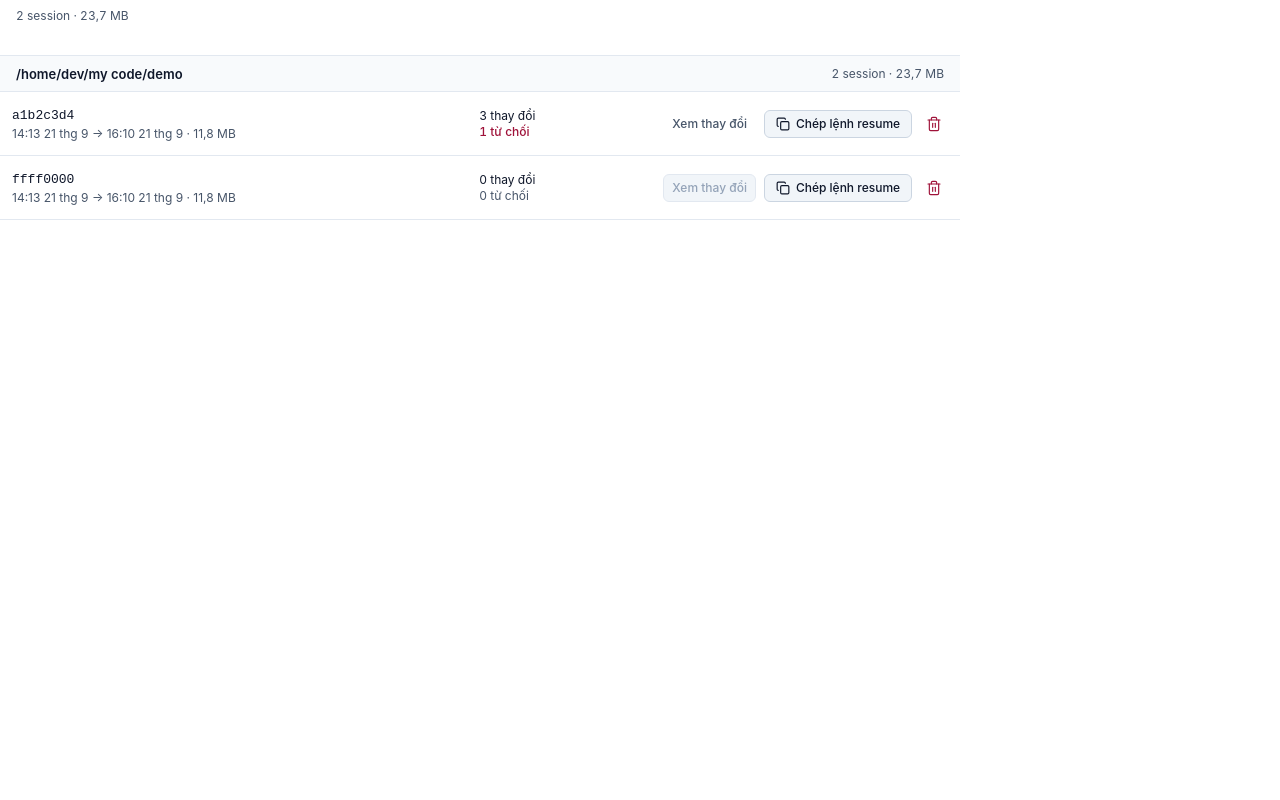
Test: <SessionsPage /> › UC-004 / AC-5: cancel keeps the session, confirm trashes it
Expected: the text "a1b2c3d4" is shown, 12,108 -> 74,122
What coordinates should you click on to do the following:
click the button named "Chuyển vào Thùng rác" in the row of "a1b2c3d4"
I would click on:
 (934, 124)
Its box is 920,110 -> 948,138.
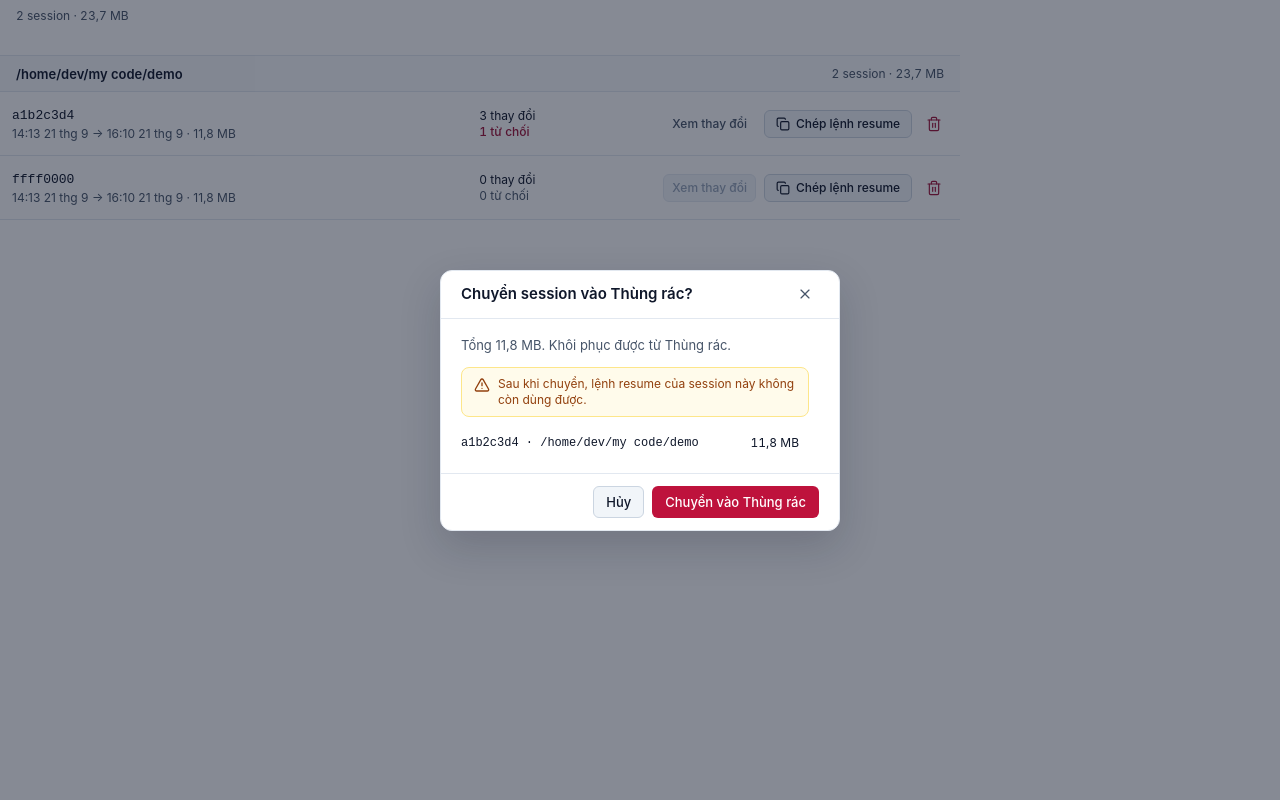
Expected: the text "Sau khi chuyển, lệnh resume của session này không còn dùng được." is shown, 498,376 -> 796,408
Expected: the text "a1b2c3d4 · /home/dev/my code/demo" is shown, 461,434 -> 699,450
What coordinates should you click on to do the following:
click the button "Hủy"
I would click on:
 (619, 502)
Its box is 593,486 -> 644,518.
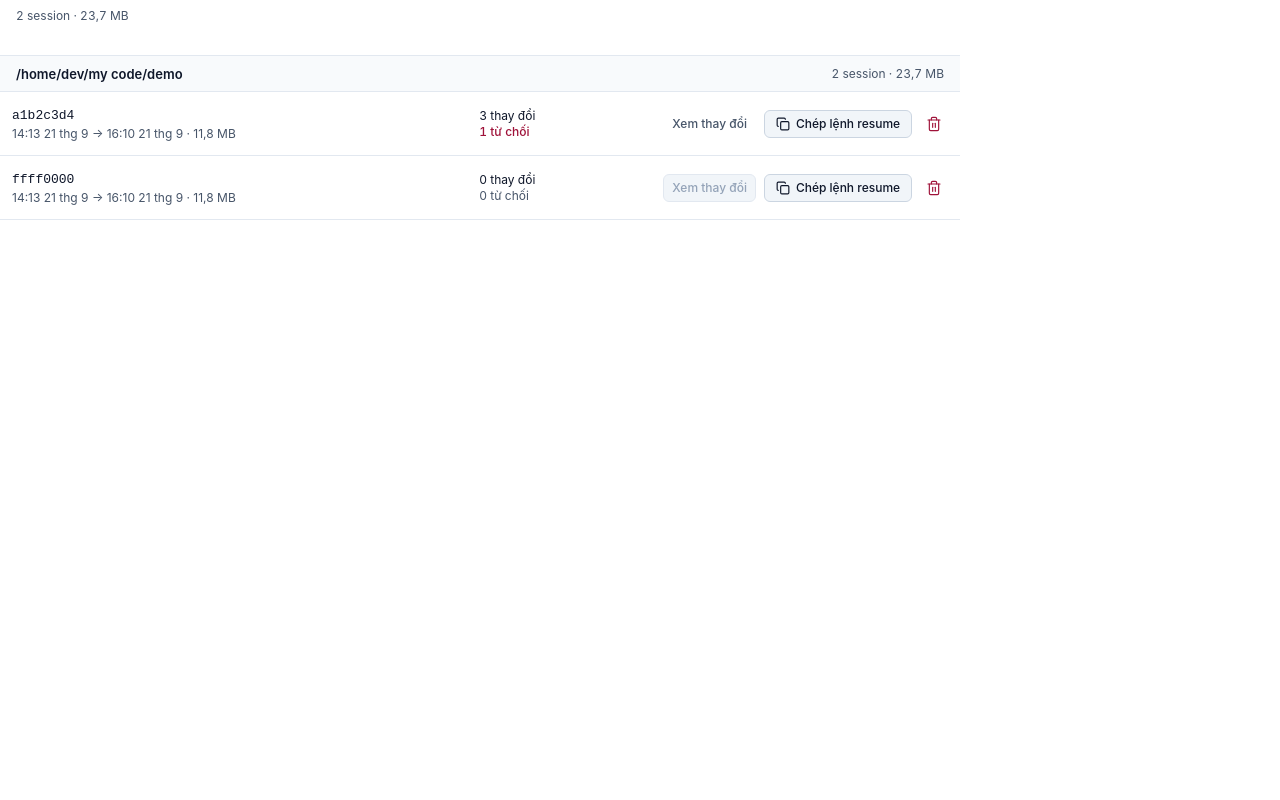
Expected: the dialog is gone
What coordinates should you click on to do the following:
click the button named "Chuyển vào Thùng rác" in the row of "a1b2c3d4"
I would click on:
 (934, 124)
Its box is 920,110 -> 948,138.
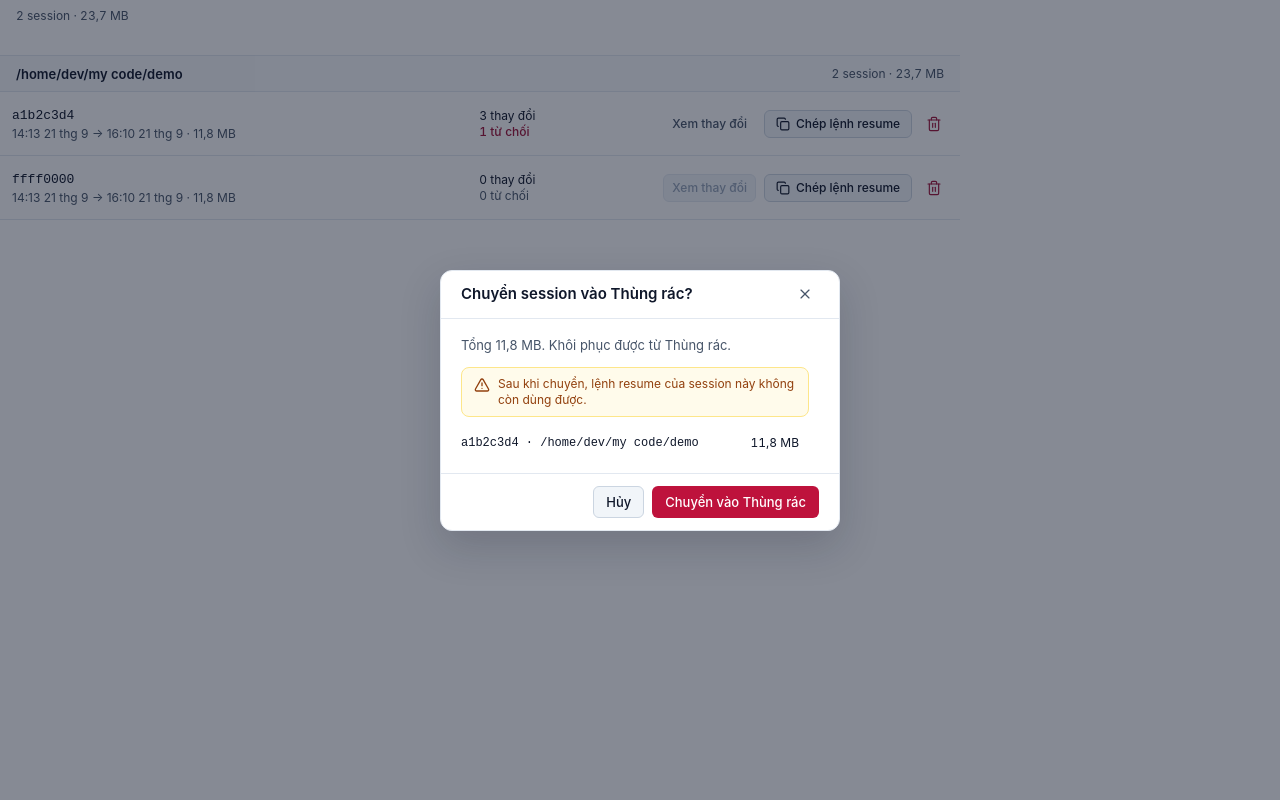
What coordinates should you click on to do the following:
click the button "Chuyển vào Thùng rác"
I would click on:
 (736, 502)
Its box is 652,486 -> 819,518.
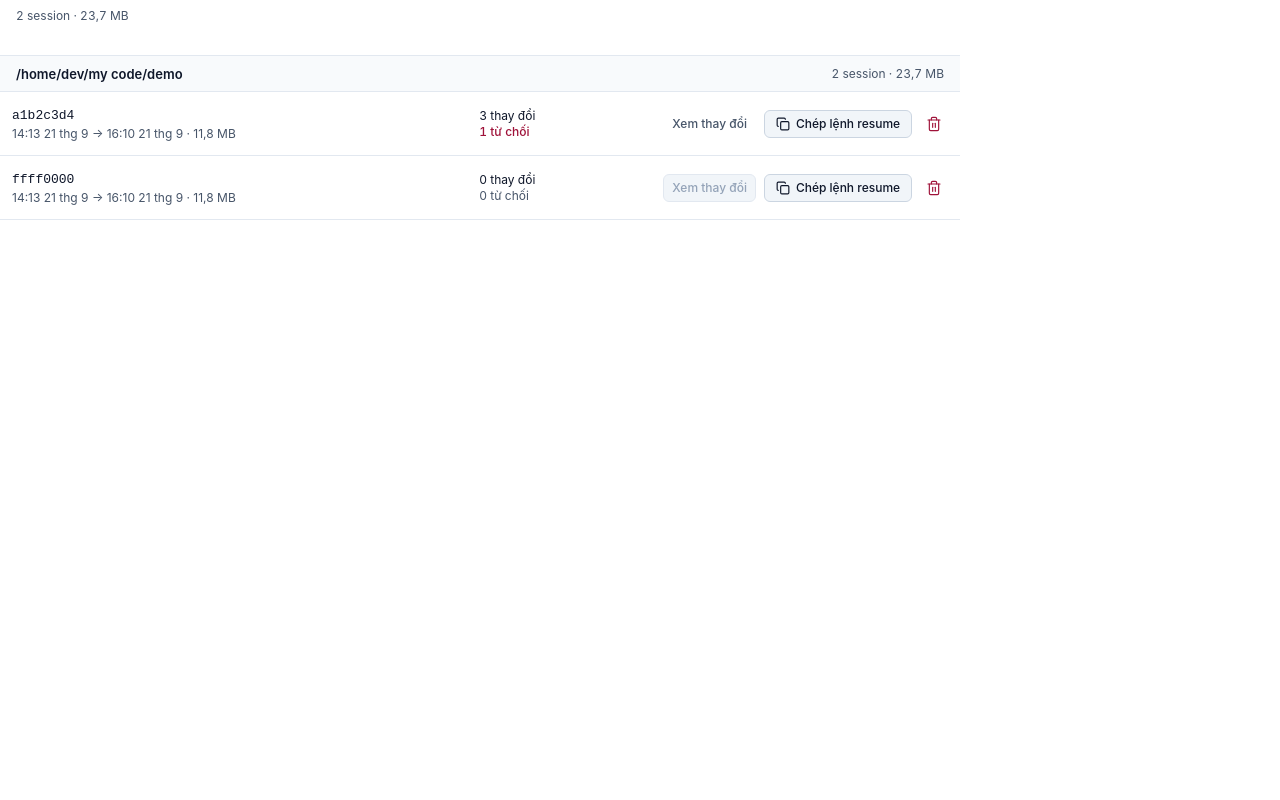
Expected: the dialog is gone
